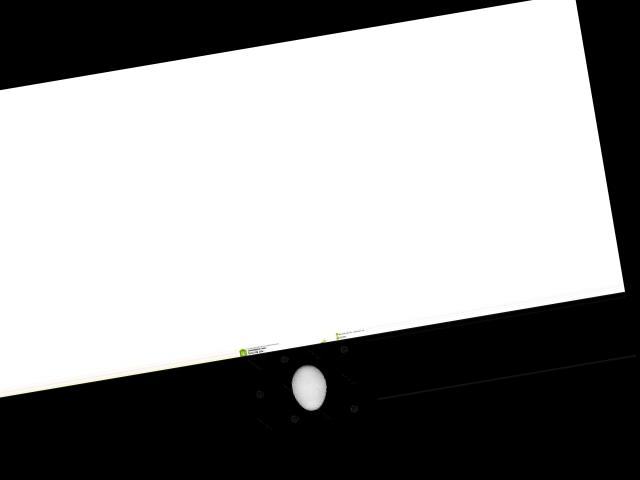egg: (289, 361, 331, 412)
